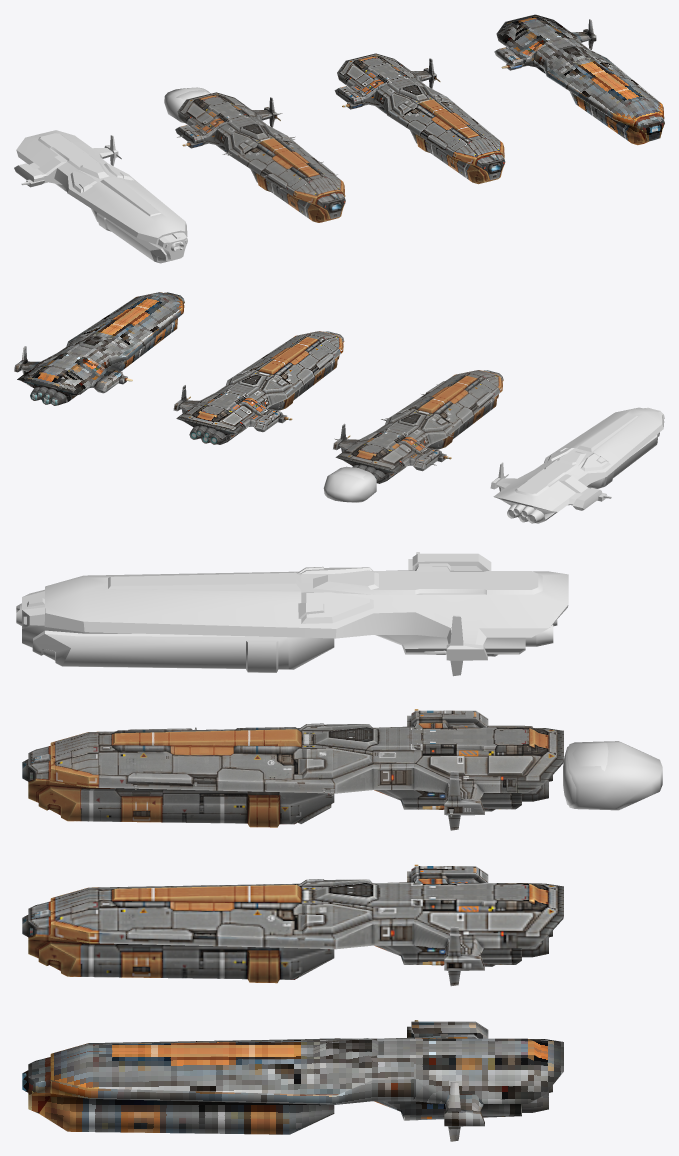
The model's file is hgn_36_ionfrigate_T2.dae.
3 views of the same model, one above another, from view 1: azimuth 30°, elevation 25°; view 2: azimuth 150°, elevation 25°; view 3: azimuth 270°, elevation 25° (orthographic). The views are drawn at different scales.
Parts seen in each view (by area): view 1: COL[Root], MULT[Firepike2]_LOD[0]_TAGS[DoScar], MULT[Firepike2]_LOD[1]_TAGS[DoScar], MULT[Firepike2]_LOD[2]_TAGS[DoScar], GLOW[EngGlow_stg3]_LOD[0]; view 2: COL[Root], MULT[Firepike2]_LOD[1]_TAGS[DoScar], MULT[Firepike2]_LOD[2]_TAGS[DoScar], MULT[Firepike2]_LOD[0]_TAGS[DoScar], GLOW[EngGlow_stg3]_LOD[0]; view 3: COL[Root], MULT[Firepike2]_LOD[0]_TAGS[DoScar], MULT[Firepike2]_LOD[1]_TAGS[DoScar], MULT[Firepike2]_LOD[2]_TAGS[DoScar], GLOW[EngGlow_stg3]_LOD[0].
Boxes of the visible parts, left/top/right/bottom form: COL[Root]: left=14, top=130, right=187, bottom=263; MULT[Firepike2]_LOD[0]_TAGS[DoScar]: left=175, top=92, right=345, bottom=222; MULT[Firepike2]_LOD[1]_TAGS[DoScar]: left=334, top=53, right=505, bottom=184; MULT[Firepike2]_LOD[2]_TAGS[DoScar]: left=494, top=14, right=664, bottom=145; GLOW[EngGlow_stg3]_LOD[0]: left=164, top=87, right=210, bottom=122; COL[Root]: left=490, top=407, right=664, bottom=523; MULT[Firepike2]_LOD[1]_TAGS[DoScar]: left=173, top=331, right=344, bottom=444; MULT[Firepike2]_LOD[2]_TAGS[DoScar]: left=14, top=292, right=184, bottom=405; MULT[Firepike2]_LOD[0]_TAGS[DoScar]: left=333, top=370, right=503, bottom=483; GLOW[EngGlow_stg3]_LOD[0]: left=323, top=466, right=376, bottom=502; COL[Root]: left=16, top=552, right=568, bottom=676; MULT[Firepike2]_LOD[0]_TAGS[DoScar]: left=22, top=709, right=563, bottom=830; MULT[Firepike2]_LOD[1]_TAGS[DoScar]: left=22, top=864, right=563, bottom=986; MULT[Firepike2]_LOD[2]_TAGS[DoScar]: left=22, top=1020, right=563, bottom=1141; GLOW[EngGlow_stg3]_LOD[0]: left=563, top=741, right=662, bottom=810.
Size of the model in its own units: 388 by 29.51 by 187.
